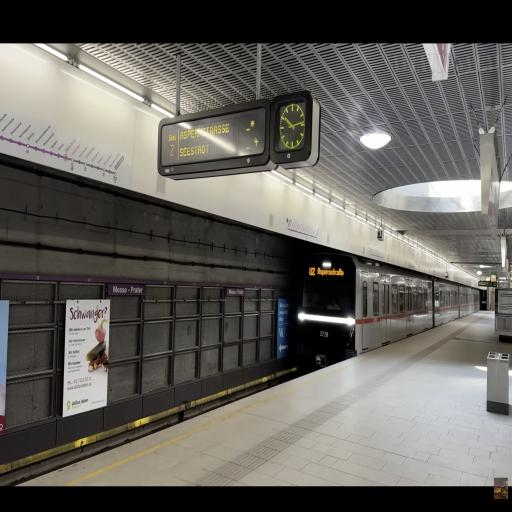X-Wagen: (297, 250, 479, 358)
